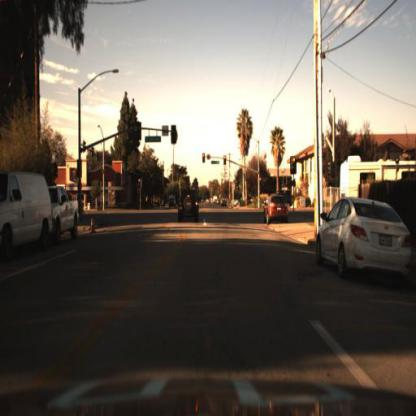car: (312, 191, 415, 285), (1, 170, 54, 258), (47, 180, 91, 245), (50, 180, 83, 250), (172, 181, 206, 226), (259, 190, 293, 228), (263, 196, 294, 225), (177, 189, 202, 221), (168, 190, 180, 213)
trafficLight-Red: (289, 151, 301, 180), (289, 153, 300, 180), (134, 175, 146, 192), (200, 150, 209, 166), (221, 154, 230, 167), (257, 174, 264, 188)
